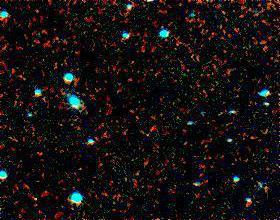star: (48, 81, 78, 111)
